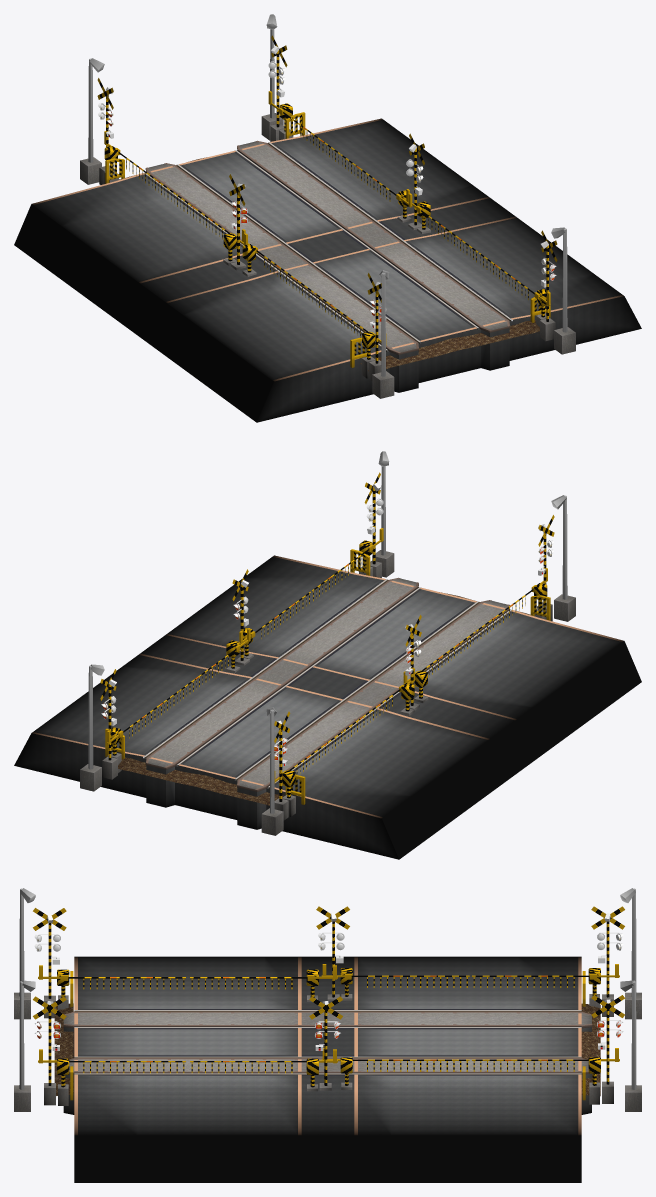
File: HQ_2RAIL_HUMIKIRI60.glb
The picture shows the model from 3 angles, top to bottom: view 1: azimuth 30°, elevation 25°; view 2: azimuth 150°, elevation 25°; view 3: azimuth 270°, elevation 25°; orthographic projection. The views are drawn at different scales.
Parts seen in each view (by area): view 1: obj3, BODY (×6), bone8, bone0; view 2: obj3, BODY (×6), bone8, bone0; view 3: obj3, BODY (×6), bone8, bone0.
Part boxes in pixels (box(x1,y1,x2,y2)): obj3: box(14, 118, 641, 422); BODY (×6): box(97, 35, 557, 380); bone8: box(350, 227, 575, 398); bone0: box(80, 14, 305, 184); obj3: box(14, 555, 641, 859); BODY (×6): box(100, 472, 554, 820); bone8: box(350, 451, 575, 621); bone0: box(80, 664, 305, 835); obj3: box(54, 956, 600, 1182); BODY (×6): box(33, 906, 625, 1105); bone8: box(14, 888, 73, 1111); bone0: box(582, 888, 641, 1111).
Bounding box in the file's own units: 54.97 × 19.62 × 74.25.
Materials: 96 (93 with a texture image).
